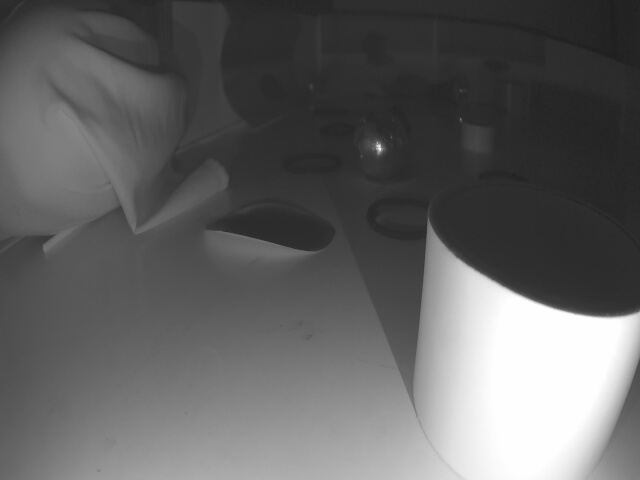Live: (352, 112, 410, 177)
